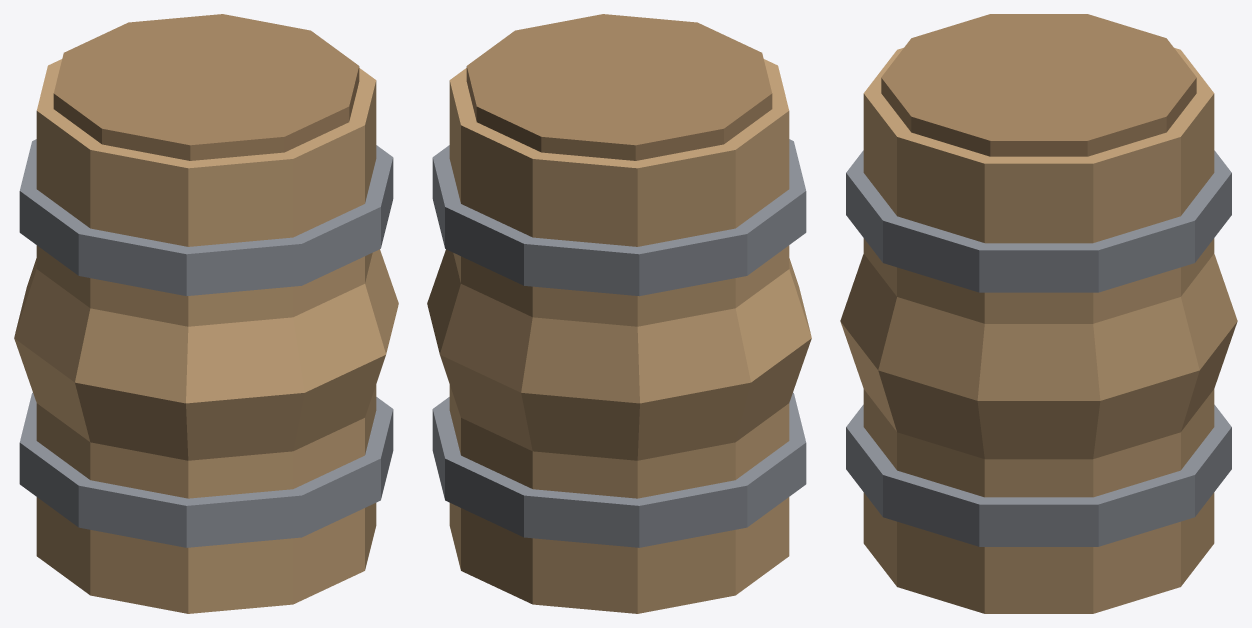
The model's file is barrel.glb.
3 views of the same model, side by side, from view 1: azimuth 30°, elevation 25°; view 2: azimuth 150°, elevation 25°; view 3: azimuth 270°, elevation 25° (orthographic).
Parts seen in each view (by area): view 1: Player; view 2: Player; view 3: Player.
Part boxes in pixels (bbox=[...]): Player: bbox=[14, 14, 398, 613]; Player: bbox=[427, 14, 811, 613]; Player: bbox=[840, 14, 1237, 613].
Size of the model in its own units: 0.6467 by 0.91 by 0.68.
